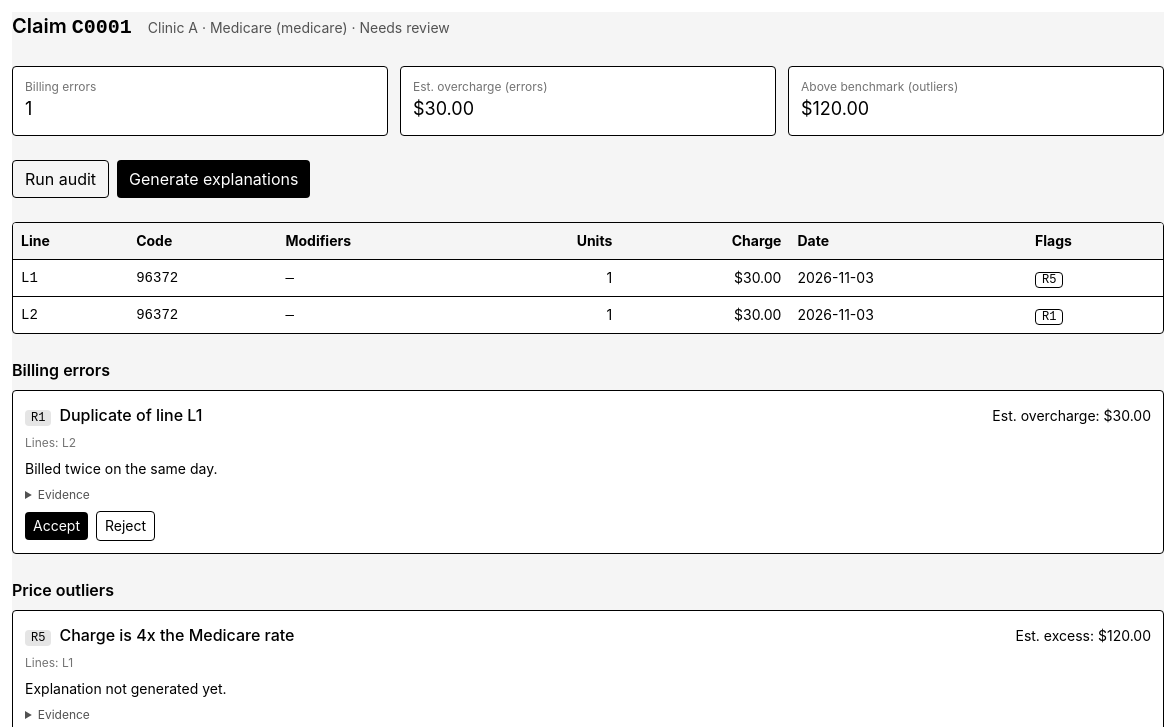
Test case: accept shows server errors next to the flag
Click the button "Accept". click: x=56, y=526
box: [25,512,88,540]
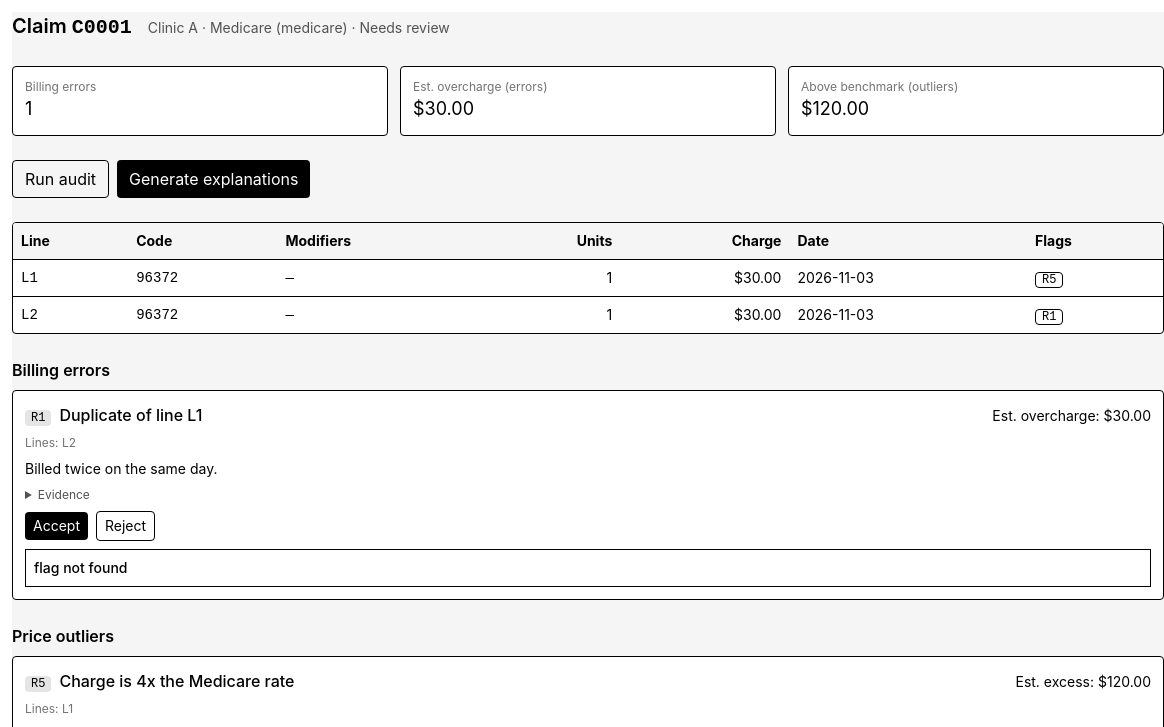
Now the message reads "flag not found", box [34,559,128,576]
